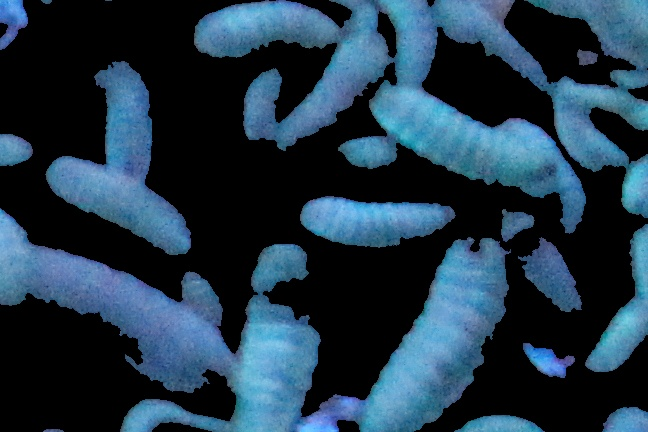larvae: (360, 232, 510, 432), (26, 245, 233, 370), (374, 79, 554, 179), (239, 241, 320, 432), (275, 21, 383, 158), (44, 155, 190, 254), (437, 1, 552, 90), (502, 202, 589, 314), (293, 188, 459, 246), (194, 1, 341, 58), (555, 77, 648, 163), (93, 62, 153, 179), (381, 1, 443, 85), (583, 298, 648, 374), (244, 73, 283, 141)
